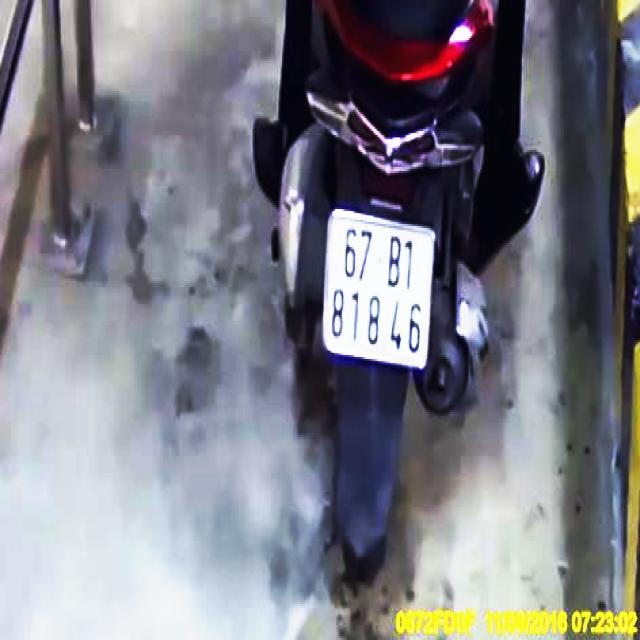license_plate: (326, 212, 434, 369)
